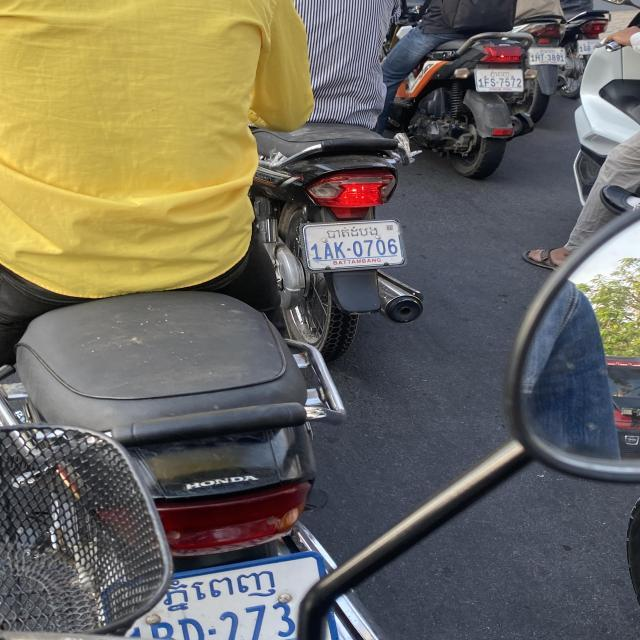Battambang: (326, 225, 380, 240)
Phnom_Penh: (488, 70, 511, 78), (539, 49, 556, 54)
